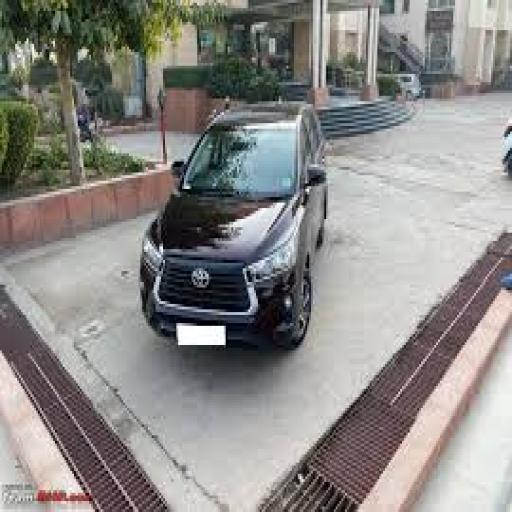car: (118, 92, 382, 408)
